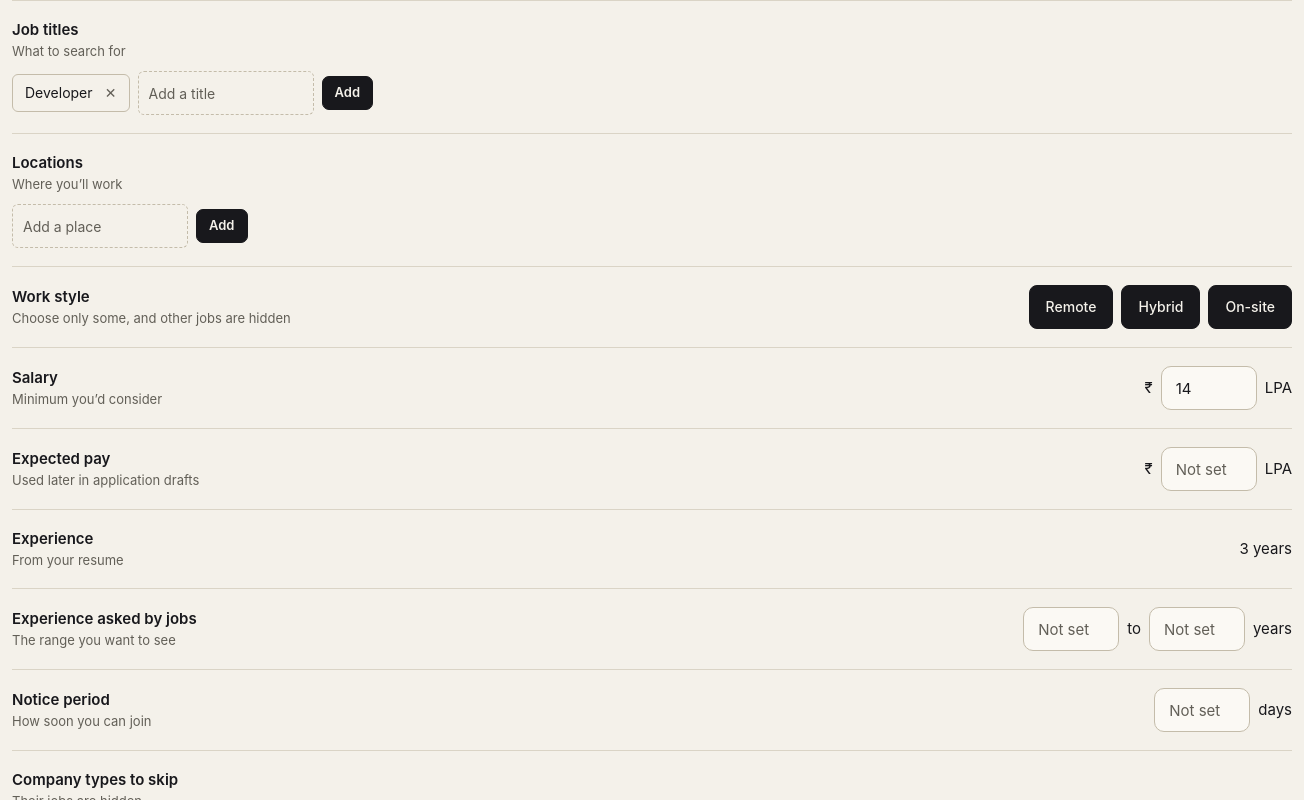
Test: Settings > Search with the API › shows what is stored when it was changed elsewhere
Type "30" into the field named "Notice period in days" at (1202, 710), box [1154,688,1250,732]
(page scrolled)
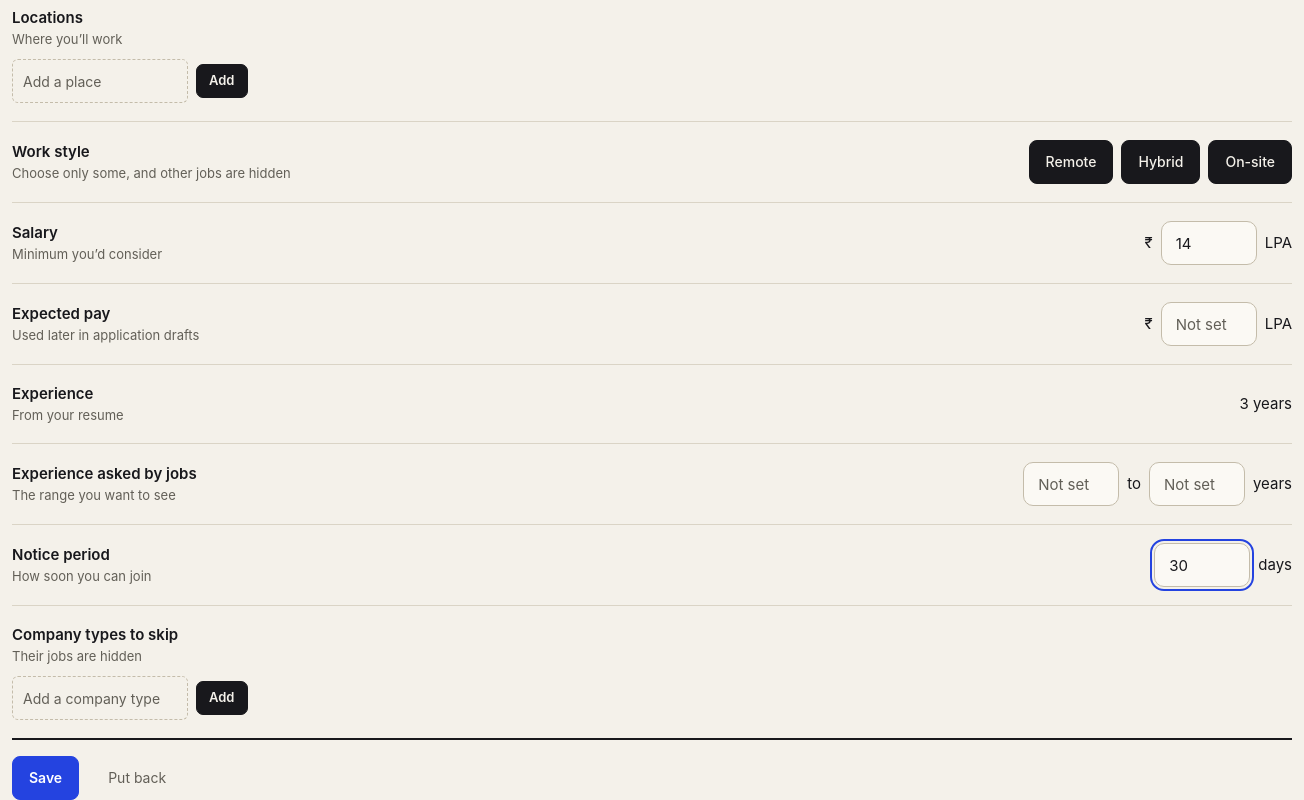
Click the button "Save" at (46, 778), box [12,756,79,799]
(page scrolled)
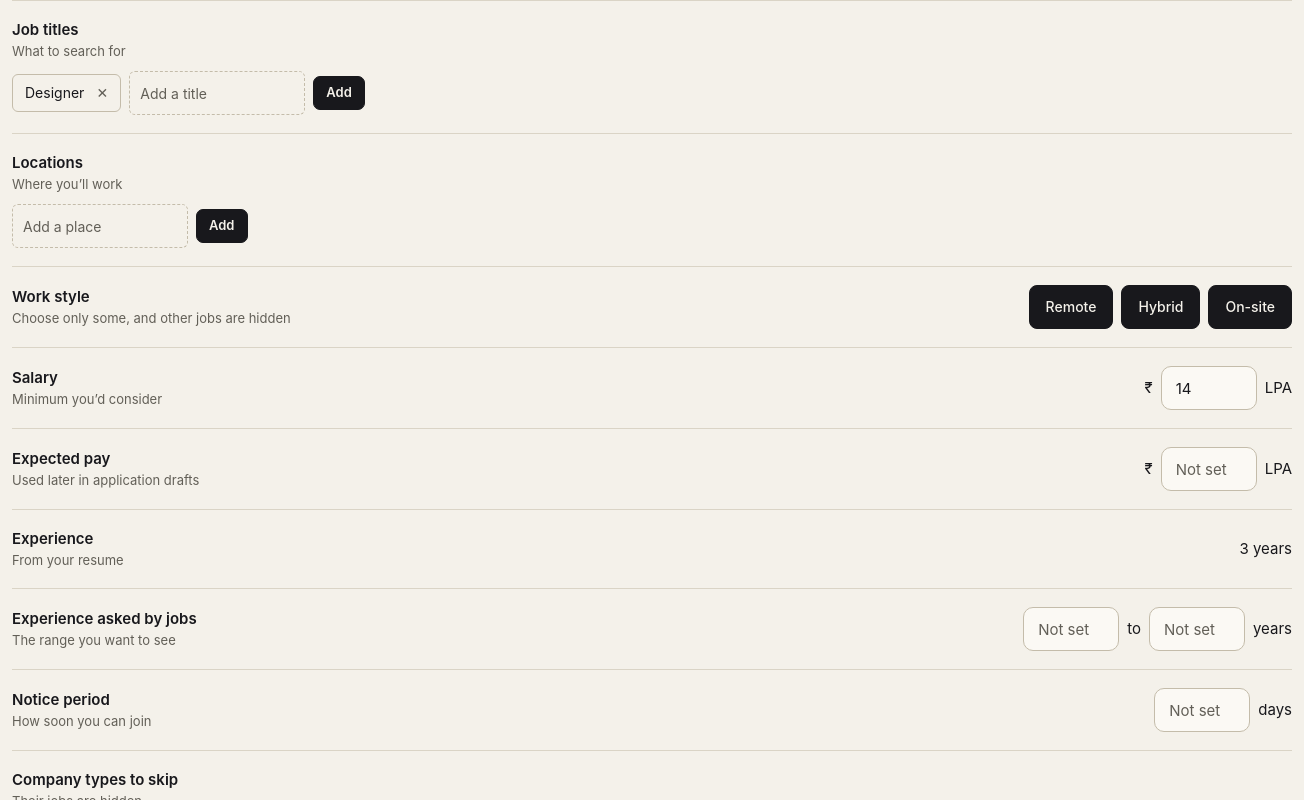
Now the text "Designer" is shown, box [25,84,84,101]
